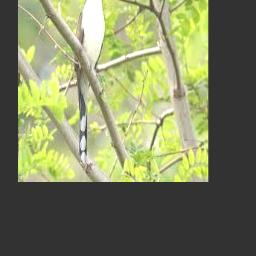Cuckoo: (74, 0, 106, 164)
